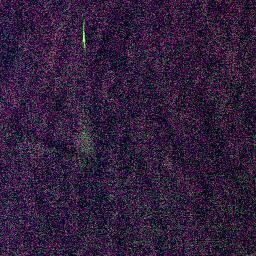Ship: (79, 19, 87, 51)
